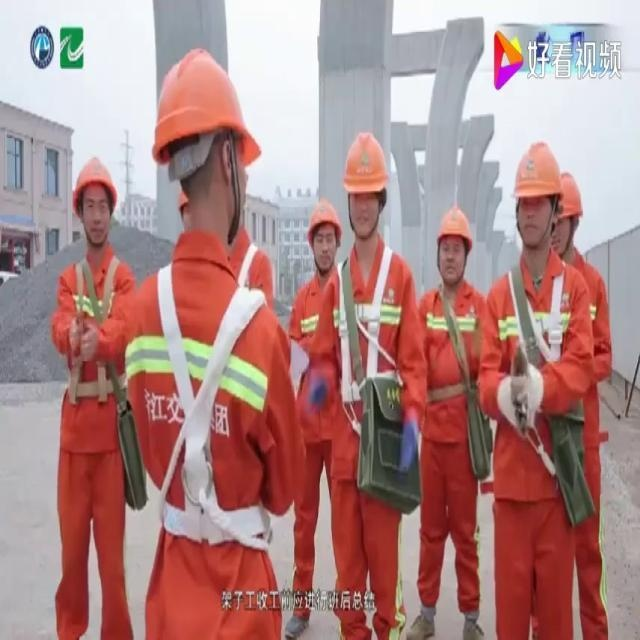Arnes_seguridad: (145, 254, 277, 566), (333, 237, 402, 411), (499, 248, 580, 380), (63, 250, 128, 412)
